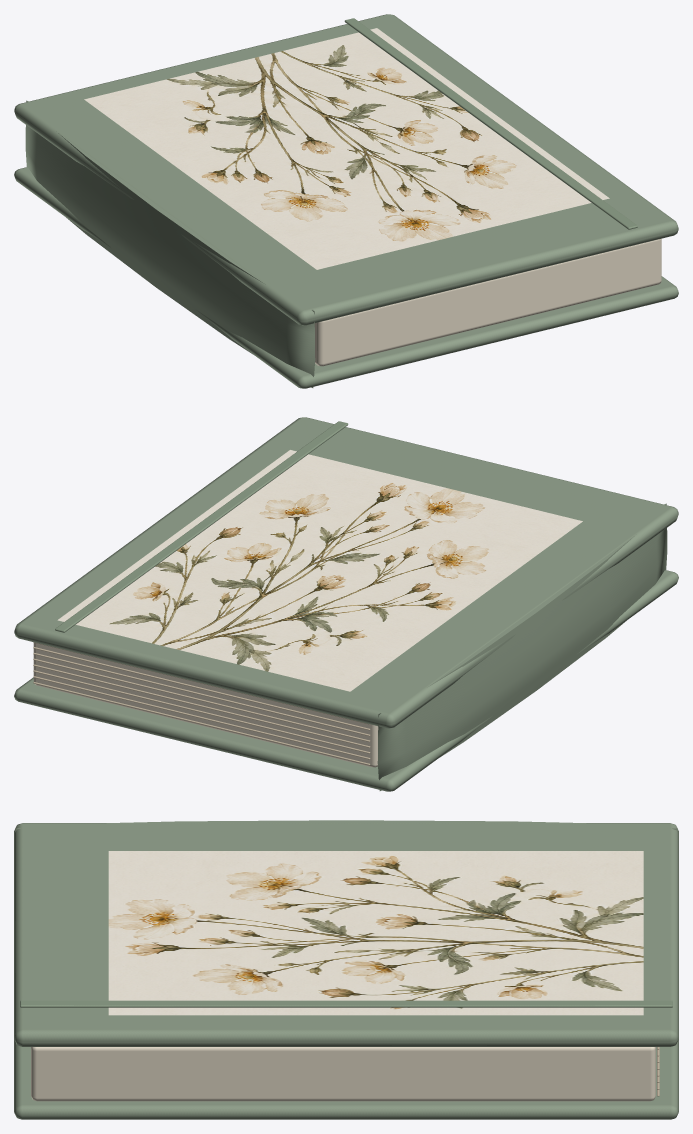
The model's file is product-off.notebook.glb.
3 renders of one model, top to bottom at view 1: azimuth 30°, elevation 25°; view 2: azimuth 150°, elevation 25°; view 3: azimuth 270°, elevation 25°, orthographic. The views are drawn at different scales.
Parts seen in each view (by area): view 1: product-off.notebook; view 2: product-off.notebook; view 3: product-off.notebook.
Part boxes in pixels (<box>): product-off.notebook: <box>14,14,678,388</box>; product-off.notebook: <box>14,417,678,791</box>; product-off.notebook: <box>14,820,678,1119</box>.
Size of the model in its own units: 0.346 by 0.071 by 0.45.
Materials: 5 (3 with a texture image).
